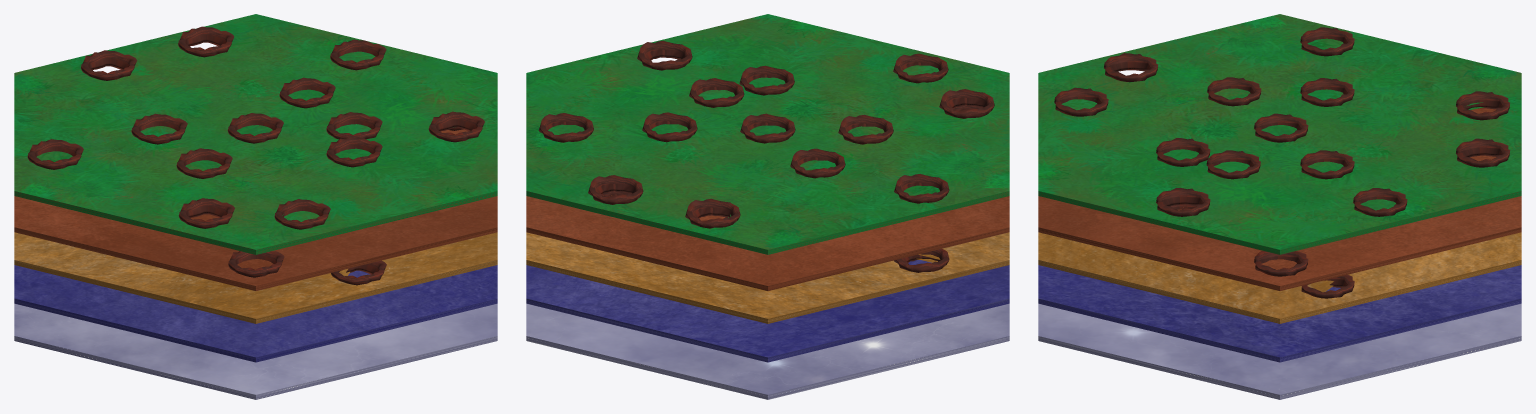
Rendered from Stage_Export.fbx.
3 views of the same model, side by side, from view 1: azimuth 30°, elevation 25°; view 2: azimuth 150°, elevation 25°; view 3: azimuth 270°, elevation 25° (orthographic).
Visible parts, largest first — view 1: Stage_1, Buge_4, Stage_5, Stage_2, Stage_3, Burrow.006, Burrow.008, Burrow.012, Burrow.009, Burrow.001, Burrow.002, Burrow.010 (+8 smaller); view 2: Stage_1, Buge_4, Stage_5, Stage_2, Stage_3, Burrow.008, Burrow.012, Burrow.009, Burrow.006, Burrow.005, Burrow.001, Burrow.010 (+7 smaller); view 3: Stage_1, Buge_4, Stage_5, Stage_2, Stage_3, Burrow.008, Burrow.006, Burrow.012, Burrow.009, Burrow.010, Burrow.003, Burrow_1 (+8 smaller).
Part boxes in pixels (<box>): Stage_1: <box>14,14,497,254</box>; Buge_4: <box>14,265,497,362</box>; Stage_5: <box>14,303,497,399</box>; Stage_2: <box>14,129,497,290</box>; Stage_3: <box>14,232,497,323</box>; Burrow.006: <box>428,111,484,142</box>; Burrow.008: <box>178,26,234,57</box>; Burrow.012: <box>178,198,234,228</box>; Burrow.009: <box>81,50,137,80</box>; Burrow.001: <box>131,113,187,144</box>; Burrow.002: <box>27,139,83,169</box>; Burrow.010: <box>274,199,330,229</box>; Stage_1: <box>526,14,1009,254</box>; Buge_4: <box>526,260,1009,362</box>; Stage_5: <box>526,303,1009,399</box>; Stage_2: <box>526,195,1009,290</box>; Stage_3: <box>526,232,1009,323</box>; Burrow.008: <box>588,175,643,204</box>; Burrow.012: <box>939,89,994,118</box>; Burrow.009: <box>685,198,740,228</box>; Burrow.006: <box>637,40,692,70</box>; Burrow.005: <box>739,65,794,95</box>; Burrow.001: <box>790,148,845,178</box>; Burrow.010: <box>893,53,948,83</box>; Stage_1: <box>1038,14,1521,254</box>; Buge_4: <box>1038,265,1521,362</box>; Stage_5: <box>1038,303,1521,399</box>; Stage_2: <box>1038,108,1521,290</box>; Stage_3: <box>1038,232,1521,323</box>; Burrow.008: <box>1456,138,1510,167</box>; Burrow.006: <box>1156,188,1210,216</box>; Burrow.012: <box>1104,53,1157,82</box>; Burrow.009: <box>1456,91,1509,120</box>; Burrow.010: <box>1054,87,1108,116</box>; Burrow.003: <box>1300,150,1354,179</box>; Burrow_1: <box>1254,113,1308,142</box>.
Size of the model in its own units: 441 by 138 by 382.
